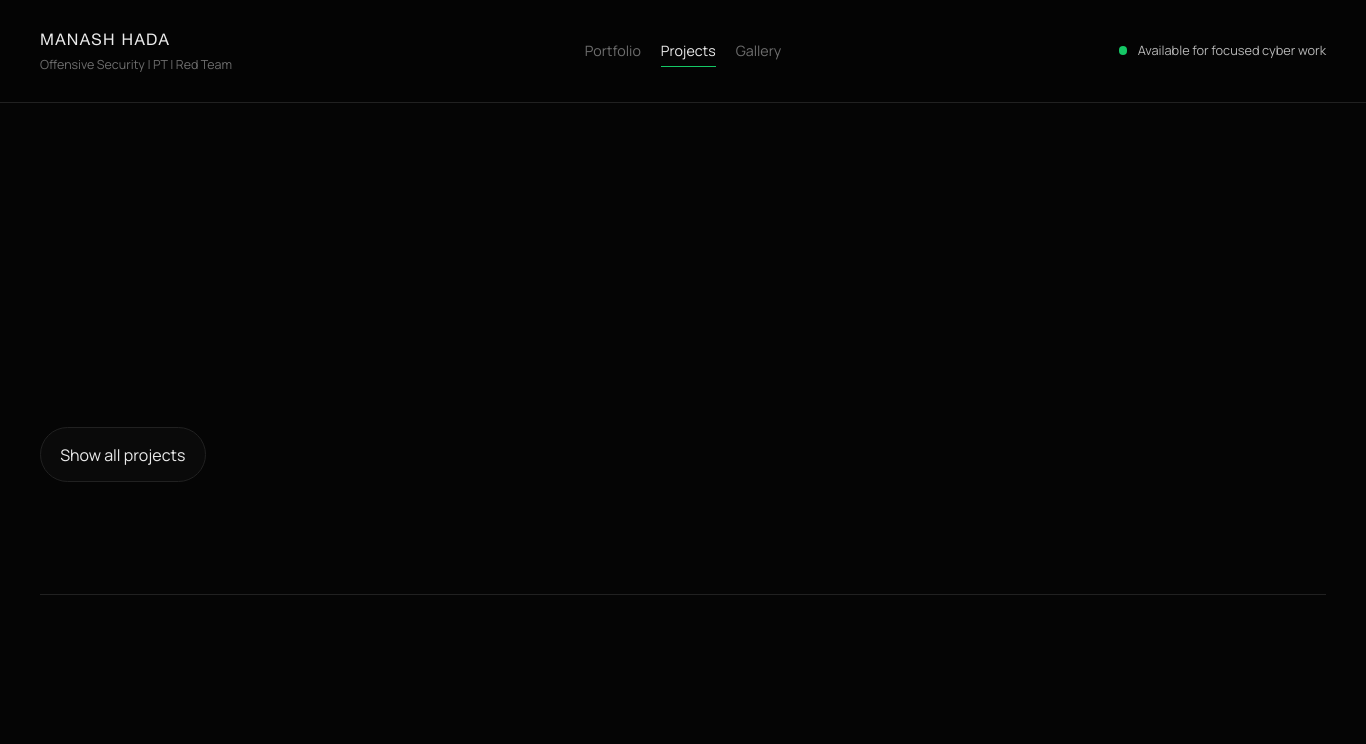
Scenario: projects page › removes BAU_KO_PHONE and reveals lower-ranked projects only after clicking show all
The width and height of the screenshot is (1366, 744).
(page scrolled)
Expected: the text "ESP32-Marauder" is not shown
Expected: the text "DEAUTH with Wi-Fi Dongle" is not shown
Click the button "Show all projects" at [123, 455], box [40,427,206,482]
(page scrolled)
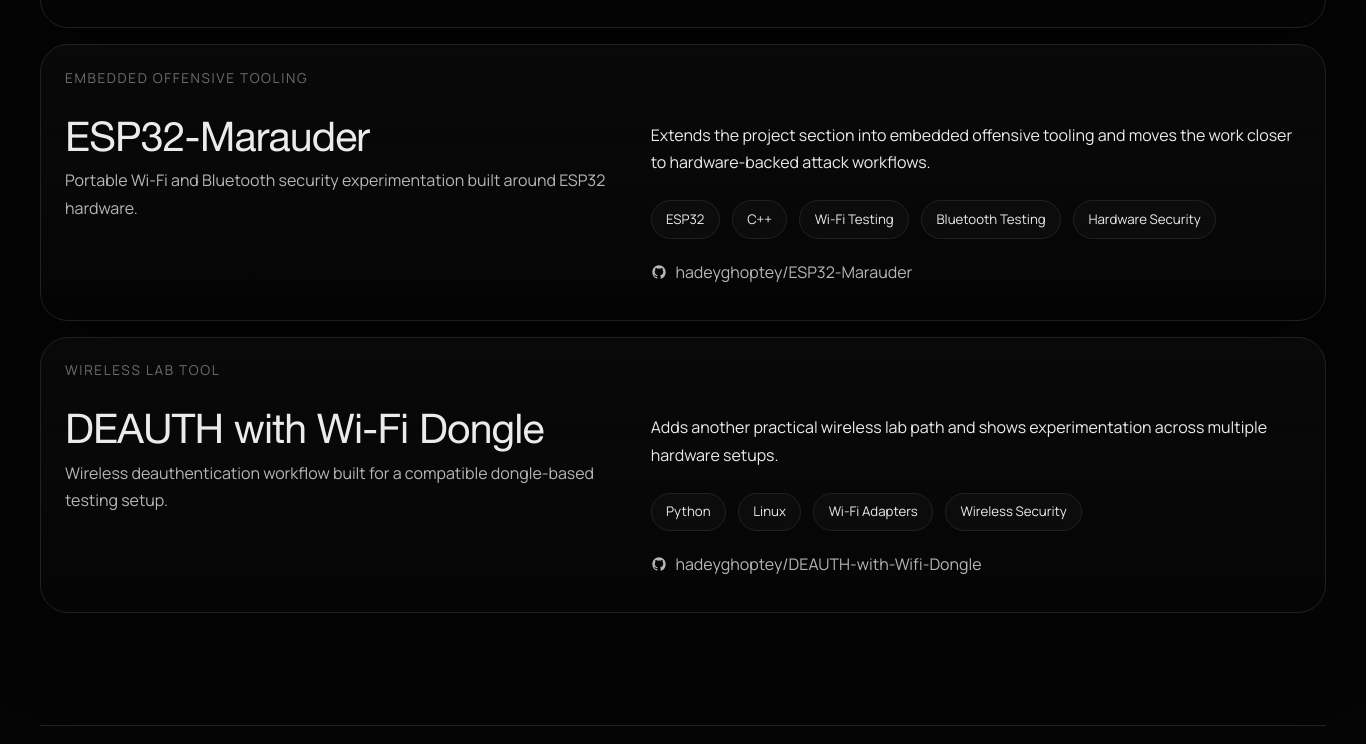
Expected: the text "ESP32-Marauder" is shown, [65,106,369,167]
Expected: the text "DEAUTH with Wi-Fi Dongle" is shown, [65,398,544,460]
Expected: the button "Show all projects" is gone
